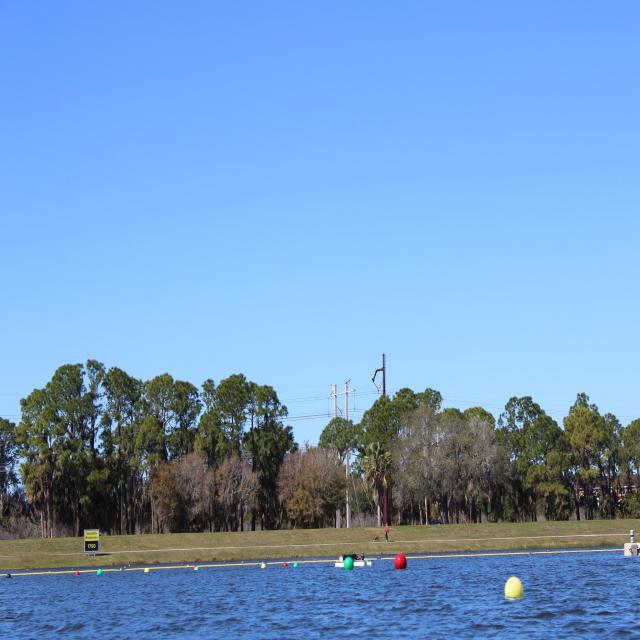green-buoy: (344, 557, 354, 572), (98, 568, 104, 577), (292, 563, 298, 569)
red-buoy: (394, 554, 407, 572), (283, 562, 288, 568)
yellow-buoy: (503, 575, 522, 600), (262, 562, 268, 570), (144, 567, 150, 575)
